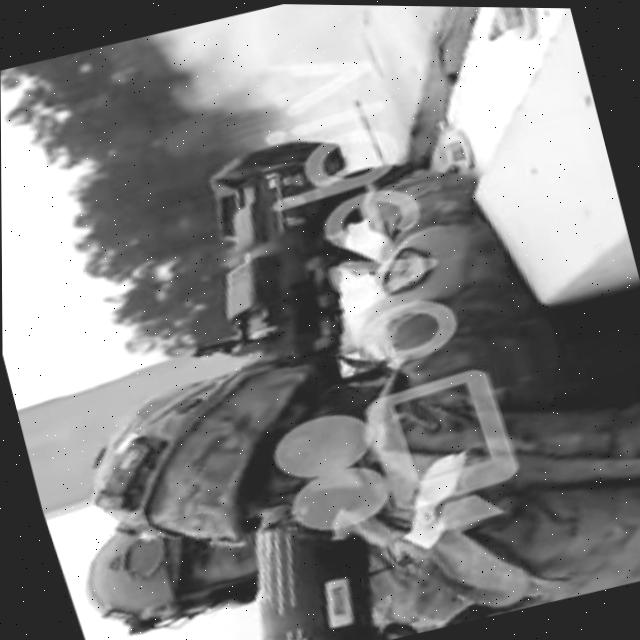rocket: (96, 111, 502, 640)
